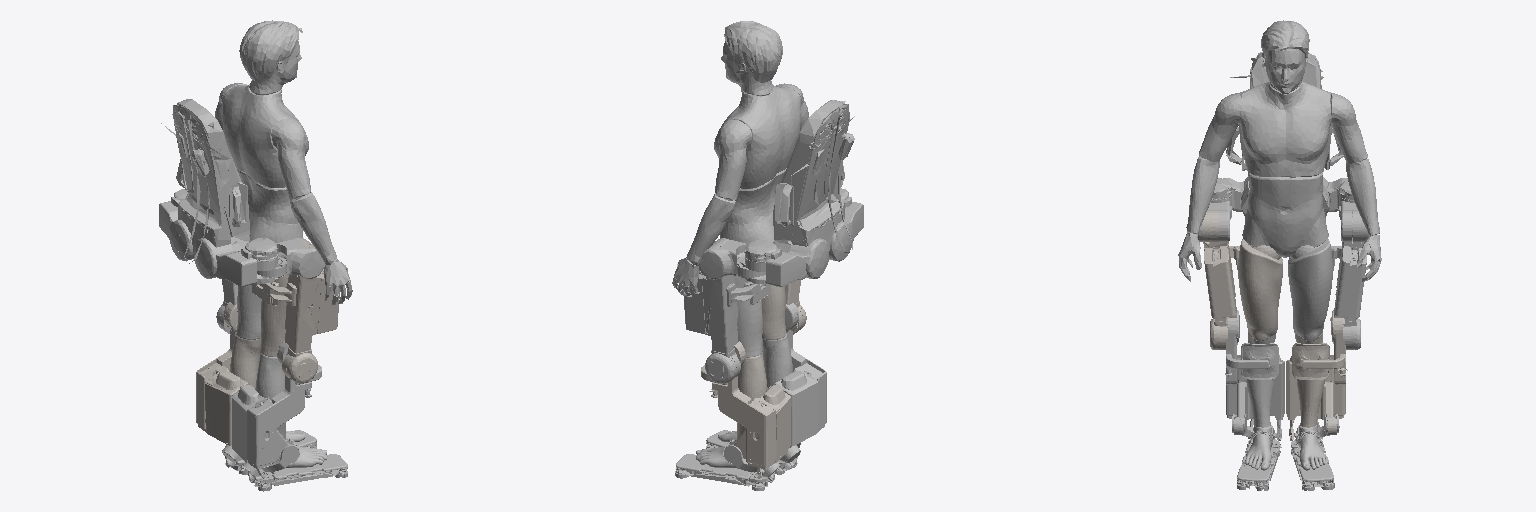
--- What the picture shows (computed from the rendered views, not written in the file) ---
Views: 3 orthographic renders of the robot side by side, from view 1: azimuth 30°, elevation 25°; view 2: azimuth 150°, elevation 25°; view 3: azimuth 270°, elevation 25°.
Model v5-2 with 34 links and 33 joints (14 revolute, 19 fixed), rooted at PelvisLink, posed all joints at 0.
Links seen in each view (by area): view 1: PelvisLink, RightSagittalHipLink, RightSagittalKneeLink, LeftSagittalKneeLink, RightFrontalHipLink, RightHenkeAnkleLink, LeftSagittalHipLink, RightTransverseHipLink, LeftFrontalHipLink, LeftHenkeAnkleLink; view 2: PelvisLink, LeftSagittalHipLink, LeftSagittalKneeLink, RightSagittalKneeLink, LeftFrontalHipLink, LeftHenkeAnkleLink, RightSagittalHipLink, LeftTransverseHipLink, RightFrontalHipLink, RightHenkeAnkleLink; view 3: PelvisLink, RightSagittalHipLink, LeftSagittalHipLink, LeftSagittalKneeLink, RightSagittalKneeLink, RightHenkeAnkleLink, LeftHenkeAnkleLink, RightFrontalHipLink, LeftFrontalHipLink, RightTransverseHipLink.
Link boxes in pixels (x1,y1,x2,y2): PelvisLink: (161,20,352,304); RightSagittalHipLink: (252,241,339,383); RightSagittalKneeLink: (232,340,321,478); LeftSagittalKneeLink: (196,302,260,445); RightFrontalHipLink: (193,238,277,286); RightHenkeAnkleLink: (243,439,347,491); LeftSagittalHipLink: (216,279,261,339); RightTransverseHipLink: (257,238,324,278); LeftFrontalHipLink: (159,189,193,260); LeftHenkeAnkleLink: (222,430,316,474); PelvisLink: (672,21,854,297); LeftSagittalHipLink: (683,242,770,383); LeftSagittalKneeLink: (701,341,790,478); RightSagittalKneeLink: (763,303,826,447); LeftFrontalHipLink: (745,238,829,287); LeftHenkeAnkleLink: (675,439,779,490); RightSagittalHipLink: (761,280,806,339); LeftTransverseHipLink: (698,238,765,279); RightFrontalHipLink: (829,188,863,261); RightHenkeAnkleLink: (706,430,800,474); PelvisLink: (1178,20,1381,281); RightSagittalHipLink: (1203,210,1282,349); LeftSagittalHipLink: (1288,210,1367,349); LeftSagittalKneeLink: (1286,310,1347,440); RightSagittalKneeLink: (1225,310,1284,440); RightHenkeAnkleLink: (1237,425,1281,490); LeftHenkeAnkleLink: (1290,425,1334,490); RightFrontalHipLink: (1211,177,1247,211); LeftFrontalHipLink: (1323,177,1354,211); RightTransverseHipLink: (1198,201,1231,241).
Size in the robot's own frame: 0.626 by 0.7574 by 1.8 metres.
Meshes: 15 distinct files referenced, 15 mesh visuals loaded (15 binary STL).

URDF robot description (v5-2):
<?xml version="1.0"?>
<!-- This file has been generated using freeze_urdf_joints script to adjust some joints.
Option joint_to_freeze_value was:
{
 "AdjustableRightSagittalHipJoint":0.008060078603670775,
 "AdjustableLeftSagittalHipJoint":0.008060078603670775,
 "AdjustableLeftSagittalKneeJoint":0.042,
 "AdjustableRightSagittalKneeJoint":0.042
}
-->
<!--
    Total height of the person is: 1.81 m.
    Total mass of the person is: 78.2 kg.
    Total mass of the system is: 152.624781189 kg.
    Patient offset from exoskeleton is: 0.0 m.
-->
<robot name="v5-2">
  <joint name="RightMetatarsusJoint" type="fixed">
    <origin xyz="0.103820450224 0.0 -0.277176498549" rpy="1.58358451956e-18 0.663225115758 -1.8092540875e-33"/>
    <axis xyz="0.0 0.0 0.0"/>
    <parent link="RightHenkeAnkleLink"/>
    <child link="RightMetatarsus"/>
  </joint>
  <joint name="LeftFrontalHipJoint" type="revolute">
    <origin xyz="0.0 0.089 0.0" rpy="0.0 0.0 0.0"/>
    <axis xyz="1.0 0.0 0.0"/>
    <parent link="PelvisLink"/>
    <child link="LeftFrontalHipLink"/>
    <limit effort="350.0" lower="-0.174532925199" upper="0.296705972839" velocity="2.61799387799"/>
  </joint>
  <joint name="LeftExternalToeJoint" type="fixed">
    <origin xyz="0.0958866654432 0.0357999999769 -0.24686660045" rpy="5.0054690685e-15 0.663225115758 6.86835455008e-15"/>
    <axis xyz="0.0 0.0 0.0"/>
    <parent link="LeftHenkeAnkleLink"/>
    <child link="LeftExternalToe"/>
  </joint>
  <joint name="LeftHenkeAnkleJoint" type="revolute">
    <origin xyz="0.0 0.0 0.0" rpy="-2.978350228e-17 -0.663225115758 0.0"/>
    <axis xyz="1.0 0.0 0.0"/>
    <parent link="LeftSagittalAnkleLink"/>
    <child link="LeftHenkeAnkleLink"/>
    <limit effort="82.0" lower="-0.314159265359" upper="0.314159265359" velocity="5.24"/>
  </joint>
  <joint name="LeftInternalHeelJoint" type="fixed">
    <origin xyz="-0.140988505509 -0.0358010933644 -0.0617994341085" rpy="5.0054690685e-15 0.663225115758 6.86835455008e-15"/>
    <axis xyz="0.0 0.0 0.0"/>
    <parent link="LeftHenkeAnkleLink"/>
    <child link="LeftInternalHeel"/>
  </joint>
  <joint name="LeftTransverseHipJoint" type="revolute">
    <origin xyz="-0.135 0.169 0.0" rpy="0.0 0.0 0.0"/>
    <axis xyz="0.0 0.0 1.0"/>
    <parent link="LeftFrontalHipLink"/>
    <child link="LeftTransverseHipLink"/>
    <limit effort="180.0" lower="-0.174532925199" upper="0.349065850399" velocity="4.18879020479"/>
  </joint>
  <joint name="RightSagittalKneeJoint" type="revolute">
    <origin xyz="2.37357116643e-16 -0.000982276487141 -0.412" rpy="-2.82796112163e-18 -1.83423275819e-28 1.65504327773e-28"/>
    <axis xyz="0.0 1.0 0.0"/>
    <parent link="RightSagittalHipLink"/>
    <child link="RightSagittalKneeLink"/>
    <limit effort="219.0" lower="0.0" upper="1.91986217719" velocity="4.18879020479"/>
  </joint>
  <joint name="LeftToeJoint" type="revolute">
    <origin xyz="0.120631831589 0.0 -0.254503323737" rpy="1.17526109493e-17 0.663225115758 -3.52223310261e-17"/>
    <axis xyz="0.0 1.0 0.0"/>
    <parent link="LeftHenkeAnkleLink"/>
    <child link="LeftToeLink"/>
    <limit effort="1000.0" lower="-1.57079632679" upper="1.57079632679" velocity="1000.0"/>
  </joint>
  <joint name="RightFrontalHipJoint" type="revolute">
    <origin xyz="0.0 -0.089 0.0" rpy="0.0 0.0 0.0"/>
    <axis xyz="1.0 0.0 0.0"/>
    <parent link="PelvisLink"/>
    <child link="RightFrontalHipLink"/>
    <limit effort="350.0" lower="-0.296705972839" upper="0.174532925199" velocity="2.61799387799"/>
  </joint>
  <joint name="PelvisIMUJoint" type="fixed">
    <origin xyz="-0.16444732206 -0.014625 0.194795" rpy="-1.57079632679 -2.96204033523e-16 1.57079632679"/>
    <axis xyz="0.0 0.0 0.0"/>
    <parent link="PelvisLink"/>
    <child link="PelvisIMU"/>
  </joint>
  <joint name="LeftExternalHeelJoint" type="fixed">
    <origin xyz="-0.140988191423 0.0358005266474 -0.0617996794993" rpy="5.0054690685e-15 0.663225115758 6.86835455008e-15"/>
    <axis xyz="0.0 0.0 0.0"/>
    <parent link="LeftHenkeAnkleLink"/>
    <child link="LeftExternalHeel"/>
  </joint>
  <joint name="RightExternalHeelJoint" type="fixed">
    <origin xyz="-0.140988505509 -0.0358010933644 -0.0617994341085" rpy="-1.82430889353e-15 0.663225115758 -1.58500489617e-15"/>
    <axis xyz="0.0 0.0 0.0"/>
    <parent link="RightHenkeAnkleLink"/>
    <child link="RightExternalHeel"/>
  </joint>
  <joint name="RightSagittalAnkleJoint" type="revolute">
    <origin xyz="0.0 0.169418968161 -0.40300012974" rpy="-1.04083408559e-16 -1.46279691175e-17 -0.13962634016"/>
    <axis xyz="0.0 1.0 0.0"/>
    <parent link="RightSagittalKneeLink"/>
    <child link="RightSagittalAnkleLink"/>
    <limit effort="184.0" lower="-0.279252680319" upper="0.157079632679" velocity="3.14"/>
  </joint>
  <joint name="ThoraxIMUJoint" type="fixed">
    <origin xyz="-0.14 0.0 0.5" rpy="0.0 1.57079632679 0.0"/>
    <axis xyz="0.0 0.0 0.0"/>
    <parent link="PelvisLink"/>
    <child link="ThoraxIMU"/>
  </joint>
  <joint name="LeftSagittalAnkleJoint" type="revolute">
    <origin xyz="0.0 -0.169418968161 -0.403" rpy="0.0 -0.0 0.13962634016"/>
    <axis xyz="0.0 1.0 0.0"/>
    <parent link="LeftSagittalKneeLink"/>
    <child link="LeftSagittalAnkleLink"/>
    <limit effort="184.0" lower="-0.279252680319" upper="0.157079632679" velocity="3.14"/>
  </joint>
  <joint name="LeftSagittalKneeJoint" type="revolute">
    <origin xyz="1.18659970394e-16 0.000982276487141 -0.412" rpy="2.82796112163e-18 1.16200934121e-28 -2.05977408211e-28"/>
    <axis xyz="0.0 1.0 0.0"/>
    <parent link="LeftSagittalHipLink"/>
    <child link="LeftSagittalKneeLink"/>
    <limit effort="219.0" lower="0.0" upper="1.91986217719" velocity="4.18879020479"/>
  </joint>
  <joint name="RightTibiaIMUJoint" type="fixed">
    <origin xyz="-0.115680137433 0.0715975226629 -0.347475062462" rpy="-1.57079632679 5.39543769849e-16 2.63677968348e-15"/>
    <axis xyz="0.0 0.0 0.0"/>
    <parent link="RightSagittalKneeLink"/>
    <child link="RightTibiaIMU"/>
  </joint>
  <joint name="LeftSagittalHipJoint" type="revolute">
    <origin xyz="0.135 0.0 0.0" rpy="0.0 0.0 0.0"/>
    <axis xyz="0.0 1.0 0.0"/>
    <parent link="LeftTransverseHipLink"/>
    <child link="LeftSagittalHipLink"/>
    <limit effort="219.0" lower="-2.00712863979" upper="0.261799387799" velocity="4.18879020479"/>
  </joint>
  <joint name="SittingPointJoint" type="fixed">
    <origin xyz="-0.173617 0.0 -0.076" rpy="0.0 0.0 0.0"/>
    <axis xyz="0.0 0.0 0.0"/>
    <parent link="PelvisLink"/>
    <child link="SittingPoint"/>
  </joint>
  <joint name="RightSagittalHipJoint" type="revolute">
    <origin xyz="0.135 0.0 0.0" rpy="0.0 0.0 0.0"/>
    <axis xyz="0.0 1.0 0.0"/>
    <parent link="RightTransverseHipLink"/>
    <child link="RightSagittalHipLink"/>
    <limit effort="219.0" lower="-2.00712863979" upper="0.261799387799" velocity="4.18879020479"/>
  </joint>
  <joint name="LeftHeelJoint" type="fixed">
    <origin xyz="-0.172316470811 0.0 -0.0614346911968" rpy="1.17526109493e-17 0.663225115758 -3.52223310261e-17"/>
    <axis xyz="0.0 0.0 0.0"/>
    <parent link="LeftHenkeAnkleLink"/>
    <child link="LeftHeel"/>
  </joint>
  <joint name="RightToeJoint" type="revolute">
    <origin xyz="0.120631831589 0.0 -0.254503323737" rpy="1.58358451956e-18 0.663225115758 -1.8092540875e-33"/>
    <axis xyz="0.0 1.0 0.0"/>
    <parent link="RightHenkeAnkleLink"/>
    <child link="RightToeLink"/>
    <limit effort="1000.0" lower="-1.57079632679" upper="1.57079632679" velocity="1000.0"/>
  </joint>
  <joint name="RightTransverseHipJoint" type="revolute">
    <origin xyz="-0.135 -0.169 0.0" rpy="0.0 0.0 0.0"/>
    <axis xyz="0.0 0.0 1.0"/>
    <parent link="RightFrontalHipLink"/>
    <child link="RightTransverseHipLink"/>
    <limit effort="180.0" lower="-0.349065850399" upper="0.174532925199" velocity="4.18879020479"/>
  </joint>
  <joint name="LeftTibiaIMUJoint" type="fixed">
    <origin xyz="-0.14092 -0.0714975226618 -0.347475" rpy="-1.57079632679 -1.39625851732e-16 3.14159265359"/>
    <axis xyz="0.0 0.0 0.0"/>
    <parent link="LeftSagittalKneeLink"/>
    <child link="LeftTibiaIMU"/>
  </joint>
  <joint name="LeftSoleJoint" type="fixed">
    <origin xyz="-0.0951195809312 0.0 -0.121747511671" rpy="1.17526109493e-17 0.663225115758 -3.52223310261e-17"/>
    <axis xyz="0.0 0.0 0.0"/>
    <parent link="LeftHenkeAnkleLink"/>
    <child link="LeftSole"/>
  </joint>
  <joint name="RightHeelJoint" type="fixed">
    <origin xyz="-0.172316470811 0.0 -0.0614346911968" rpy="1.58358451956e-18 0.663225115758 -1.8092540875e-33"/>
    <axis xyz="0.0 0.0 0.0"/>
    <parent link="RightHenkeAnkleLink"/>
    <child link="RightHeel"/>
  </joint>
  <joint name="LeftMetatarsusJoint" type="fixed">
    <origin xyz="0.103820450224 0.0 -0.277176498549" rpy="1.17526109493e-17 0.663225115758 -3.52223310261e-17"/>
    <axis xyz="0.0 0.0 0.0"/>
    <parent link="LeftHenkeAnkleLink"/>
    <child link="LeftMetatarsus"/>
  </joint>
  <joint name="RightHenkeAnkleJoint" type="revolute">
    <origin xyz="0.0 0.0 0.0" rpy="0.0 -0.663225115758 6.73695650048e-18"/>
    <axis xyz="1.0 0.0 0.0"/>
    <parent link="RightSagittalAnkleLink"/>
    <child link="RightHenkeAnkleLink"/>
    <limit effort="82.0" lower="-0.314159265359" upper="0.314159265359" velocity="5.24"/>
  </joint>
  <joint name="RightSoleJoint" type="fixed">
    <origin xyz="-0.0951195809312 0.0 -0.121747511671" rpy="1.58358451956e-18 0.663225115758 -1.8092540875e-33"/>
    <axis xyz="0.0 0.0 0.0"/>
    <parent link="RightHenkeAnkleLink"/>
    <child link="RightSole"/>
  </joint>
  <joint name="RightInternalToeJoint" type="fixed">
    <origin xyz="0.0958866654432 0.0357999999769 -0.24686660045" rpy="-1.82430889353e-15 0.663225115758 -1.58500489617e-15"/>
    <axis xyz="0.0 0.0 0.0"/>
    <parent link="RightHenkeAnkleLink"/>
    <child link="RightInternalToe"/>
  </joint>
  <joint name="LeftInternalToeJoint" type="fixed">
    <origin xyz="0.0958882624132 -0.0357996134412 -0.246867848139" rpy="5.0054690685e-15 0.663225115758 6.86835455008e-15"/>
    <axis xyz="0.0 0.0 0.0"/>
    <parent link="LeftHenkeAnkleLink"/>
    <child link="LeftInternalToe"/>
  </joint>
  <joint name="RightInternalHeelJoint" type="fixed">
    <origin xyz="-0.140988191423 0.0358005266475 -0.0617996794993" rpy="-1.82430889353e-15 0.663225115758 -1.58500489617e-15"/>
    <axis xyz="0.0 0.0 0.0"/>
    <parent link="RightHenkeAnkleLink"/>
    <child link="RightInternalHeel"/>
  </joint>
  <joint name="RightExternalToeJoint" type="fixed">
    <origin xyz="0.0958882624132 -0.0357996134412 -0.246867848139" rpy="-1.82430889353e-15 0.663225115758 -1.58500489617e-15"/>
    <axis xyz="0.0 0.0 0.0"/>
    <parent link="RightHenkeAnkleLink"/>
    <child link="RightExternalToe"/>
  </joint>
  <link name="RightInternalToe"/>
  <link name="LeftInternalToe"/>
  <link name="LeftFrontalHipLink">
    <inertial>
      <origin xyz="-0.18659896551 0.0906388739961 0.0185668674535" rpy="0.0 0.0 0.0"/>
      <mass value="4.58624498098"/>
      <inertia ixx="0.0387726804479" ixy="-0.0128790100034" ixz="-0.00381275432458" iyy="0.0158692999985" iyz="-0.00691913537636" izz="0.0441326445733"/>
    </inertial>
    <visual>
      <origin xyz="0.0 0.0 0.0" rpy="0.0 0.0 0.0"/>
      <geometry>
        <mesh filename="LeftFrontalHipLink.STL"/>
      </geometry>
      <material name="">
        <color rgba="0.752941176471 0.752941176471 0.752941176471 1.0"/>
      </material>
    </visual>
    <collision>
      <origin xyz="0.0 0.0 0.0" rpy="0.0 0.0 0.0"/>
      <geometry>
        <mesh filename="LeftFrontalHipLink.STL"/>
      </geometry>
    </collision>
  </link>
  <link name="RightExternalToe"/>
  <link name="LeftTibiaIMU"/>
  <link name="RightSagittalHipLink">
    <inertial>
      <origin xyz="0.0133628613487 0.0486053407972 -0.196509065345" rpy="0.0 0.0 0.0"/>
      <mass value="16.4261500865"/>
      <inertia ixx="0.3623326822094377" ixy="0.011271460404066399" ixz="0.0023429164983012796" iyy="0.3597750004103663" iyz="0.007338227990256802" izz="0.06472059818259761"/>
    </inertial>
    <visual>
      <origin xyz="0.0 0.0 0.0" rpy="0.0 0.0 0.0"/>
      <geometry>
        <mesh filename="RightSagittalHipLink.STL"/>
      </geometry>
      <material name="">
        <color rgba="0.776470588235 0.756862745098 0.737254901961 1.0"/>
      </material>
    </visual>
    <collision>
      <origin xyz="0.0 0.0 0.0" rpy="0.0 0.0 0.0"/>
      <geometry>
        <mesh filename="RightSagittalHipLink.STL"/>
      </geometry>
    </collision>
  </link>
  <link name="LeftSagittalHipLink">
    <inertial>
      <origin xyz="0.0133723269544 -0.0486063967745 -0.196486647207" rpy="0.0 0.0 0.0"/>
      <mass value="16.4265777815"/>
      <inertia ixx="0.3623887121880667" ixy="-0.01116885845631036" ixz="0.0023720179049505482" iyy="0.3598924293574708" iyz="-0.007386940681234713" izz="0.06463217215934035"/>
    </inertial>
    <visual>
      <origin xyz="0.0 0.0 0.0" rpy="0.0 0.0 0.0"/>
      <geometry>
        <mesh filename="LeftSagittalHipLink.STL"/>
      </geometry>
      <material name="">
        <color rgba="0.752941176471 0.752941176471 0.752941176471 1.0"/>
      </material>
    </visual>
    <collision>
      <origin xyz="0.0 0.0 0.0" rpy="0.0 0.0 0.0"/>
      <geometry>
        <mesh filename="LeftSagittalHipLink.STL"/>
      </geometry>
    </collision>
  </link>
  <link name="RightSagittalKneeLink">
    <inertial>
      <origin xyz="-0.0470032287302 0.101995405328 -0.216581670535" rpy="0.0 0.0 0.0"/>
      <mass value="13.2528800245"/>
      <inertia ixx="0.2861207269552005" ixy="0.023689838460346255" ixz="-0.06791805075871127" iyy="0.3121829983170504" iyz="0.03851321905474734" izz="0.10739899119471814"/>
    </inertial>
    <visual>
      <origin xyz="0.0 0.0 0.0" rpy="0.0 0.0 0.0"/>
      <geometry>
        <mesh filename="RightSagittalKneeLink.STL"/>
      </geometry>
      <material name="">
        <color rgba="0.752941176471 0.752941176471 0.752941176471 1.0"/>
      </material>
    </visual>
    <collision>
      <origin xyz="0.0 0.0 0.0" rpy="0.0 0.0 0.0"/>
      <geometry>
        <mesh filename="RightSagittalKneeLink.STL"/>
      </geometry>
    </collision>
  </link>
  <link name="RightHenkeAnkleLink">
    <inertial>
      <origin xyz="-0.00691028034307 -0.0219149613839 -0.128921643283" rpy="0.0 0.0 0.0"/>
      <mass value="3.28900864776"/>
      <inertia ixx="0.040220634198779845" ixy="0.005612362390828701" ixz="0.018490370318981705" iyy="0.06355149949455711" iyz="-0.0014628272201815454" izz="0.03461769595371244"/>
    </inertial>
    <visual>
      <origin xyz="0.0 0.0 0.0" rpy="0.0 0.0 0.0"/>
      <geometry>
        <mesh filename="RightHenkeAnkleLink.STL"/>
      </geometry>
      <material name="">
        <color rgba="0.752941176471 0.752941176471 0.752941176471 1.0"/>
      </material>
    </visual>
    <collision>
      <origin xyz="0.0 0.0 0.0" rpy="0.0 0.0 0.0"/>
      <geometry>
        <mesh filename="RightHenkeAnkleLink.STL"/>
      </geometry>
    </collision>
  </link>
  <link name="LeftHeel"/>
  <link name="LeftMetatarsus"/>
  <link name="LeftInternalHeel"/>
  <link name="PelvisIMU"/>
  <link name="LeftTransverseHipLink">
    <inertial>
      <origin xyz="0.0693483479128 -0.0122439400604 -2.62328666277e-05" rpy="0.0 0.0 0.0"/>
      <mass value="3.6238166807"/>
      <inertia ixx="0.00496088298888" ixy="0.0026101386171" ixz="-0.000153502228957" iyy="0.0207247274055" iyz="2.24387592161e-05" izz="0.0214591079057"/>
    </inertial>
    <visual>
      <origin xyz="0.0 0.0 0.0" rpy="0.0 0.0 0.0"/>
      <geometry>
        <mesh filename="LeftTransverseHipLink.STL"/>
      </geometry>
      <material name="">
        <color rgba="0.752941176471 0.752941176471 0.752941176471 1.0"/>
      </material>
    </visual>
    <collision>
      <origin xyz="0.0 0.0 0.0" rpy="0.0 0.0 0.0"/>
      <geometry>
        <mesh filename="LeftTransverseHipLink.STL"/>
      </geometry>
    </collision>
  </link>
  <link name="RightSole"/>
  <link name="LeftExternalHeel"/>
  <link name="LeftExternalToe"/>
  <link name="LeftToeLink">
    <inertial>
      <origin xyz="-0.02 -1.38777878078e-17 -0.011478077725" rpy="0.0 0.0 0.0"/>
      <mass value="0.00114328757461"/>
      <inertia ixx="2.48859416752e-08" ixy="-8.27180612553e-25" ixz="-1.14955427648e-22" iyy="2.48859416752e-08" iyz="1.18494814448e-22" izz="2.75895161296e-09"/>
    </inertial>
    <visual>
      <origin xyz="0.0 0.0 0.0" rpy="0.0 0.0 0.0"/>
      <geometry>
        <mesh filename="LeftToeLink.STL"/>
      </geometry>
      <material name="">
        <color rgba="0.776470588235 0.756862745098 0.737254901961 1.0"/>
      </material>
    </visual>
    <collision>
      <origin xyz="0.0 0.0 0.0" rpy="0.0 0.0 0.0"/>
      <geometry>
        <mesh filename="LeftToeLink.STL"/>
      </geometry>
    </collision>
  </link>
  <link name="SittingPoint"/>
  <link name="RightTibiaIMU"/>
  <link name="LeftSagittalAnkleLink">
    <inertial>
      <origin xyz="-0.0449170771783 0.0536419434585 -0.0397198303664" rpy="0.0 0.0 0.0"/>
      <mass value="1.67925414462"/>
      <inertia ixx="0.00462371044676" ixy="-0.00217464900438" ixz="-0.00171350754123" iyy="0.00424175269932" iyz="-0.00157887983149" izz="0.00539595922129"/>
    </inertial>
    <visual>
      <origin xyz="0.0 0.0 0.0" rpy="0.0 0.0 0.0"/>
      <geometry>
        <mesh filename="LeftSagittalAnkleLink.STL"/>
      </geometry>
      <material name="">
        <color rgba="0.752941176471 0.752941176471 0.752941176471 1.0"/>
      </material>
    </visual>
    <collision>
      <origin xyz="0.0 0.0 0.0" rpy="0.0 0.0 0.0"/>
      <geometry>
        <mesh filename="LeftSagittalAnkleLink.STL"/>
      </geometry>
    </collision>
  </link>
  <link name="LeftSagittalKneeLink">
    <inertial>
      <origin xyz="-0.0469026288121 -0.102237884137 -0.216661306438" rpy="0.0 0.0 0.0"/>
      <mass value="13.253801315"/>
      <inertia ixx="0.2861645571416313" ixy="-0.023688151739532447" ixz="-0.0670527218566108" iyy="0.3114289248514416" iyz="-0.03889925707303318" izz="0.10722878035458282"/>
    </inertial>
    <visual>
      <origin xyz="0.0 0.0 0.0" rpy="0.0 0.0 0.0"/>
      <geometry>
        <mesh filename="LeftSagittalKneeLink.STL"/>
      </geometry>
      <material name="">
        <color rgba="0.776470588235 0.756862745098 0.737254901961 1.0"/>
      </material>
    </visual>
    <collision>
      <origin xyz="0.0 0.0 0.0" rpy="0.0 0.0 0.0"/>
      <geometry>
        <mesh filename="LeftSagittalKneeLink.STL"/>
      </geometry>
    </collision>
  </link>
  <link name="ThoraxIMU"/>
  <link name="RightTransverseHipLink">
    <inertial>
      <origin xyz="0.0693460626877 0.0122440516362 -2.60687545504e-05" rpy="0.0 0.0 0.0"/>
      <mass value="3.62380778529"/>
      <inertia ixx="0.00495472910934" ixy="-0.00261016946883" ixz="-0.00017044714059" iyy="0.0207236490658" iyz="-2.24971426872e-05" izz="0.0214642012568"/>
    </inertial>
    <visual>
      <origin xyz="0.0 0.0 0.0" rpy="0.0 0.0 0.0"/>
      <geometry>
        <mesh filename="RightTransverseHipLink.STL"/>
      </geometry>
      <material name="">
        <color rgba="0.752941176471 0.752941176471 0.752941176471 1.0"/>
      </material>
    </visual>
    <collision>
      <origin xyz="0.0 0.0 0.0" rpy="0.0 0.0 0.0"/>
      <geometry>
        <mesh filename="RightTransverseHipLink.STL"/>
      </geometry>
    </collision>
  </link>
  <link name="RightSagittalAnkleLink">
    <inertial>
      <origin xyz="-0.0449171467267 -0.0536419999351 -0.0397197928819" rpy="0.0 0.0 0.0"/>
      <mass value="1.67925622757"/>
      <inertia ixx="0.00462369586191" ixy="0.00217464938756" ixz="-0.00171350659237" iyy="0.00424176214999" iyz="0.0015788772309" izz="0.00539595229202"/>
    </inertial>
    <visual>
      <origin xyz="0.0 0.0 0.0" rpy="0.0 0.0 0.0"/>
      <geometry>
        <mesh filename="RightSagittalAnkleLink.STL"/>
      </geometry>
      <material name="">
        <color rgba="0.752941176471 0.752941176471 0.752941176471 1.0"/>
      </material>
    </visual>
    <collision>
      <origin xyz="0.0 0.0 0.0" rpy="0.0 0.0 0.0"/>
      <geometry>
        <mesh filename="RightSagittalAnkleLink.STL"/>
      </geometry>
    </collision>
  </link>
  <link name="LeftHenkeAnkleLink">
    <inertial>
      <origin xyz="-0.00691030736471 0.0217560704097 -0.128921678851" rpy="0.0 0.0 0.0"/>
      <mass value="3.28900863403"/>
      <inertia ixx="0.04024346097817705" ixy="-0.0055923203176476075" ixz="0.01849037742075425" iyy="0.06355148978672626" iyz="0.0014336291239683437" izz="0.03464050385763902"/>
    </inertial>
    <visual>
      <origin xyz="0.0 0.0 0.0" rpy="0.0 0.0 0.0"/>
      <geometry>
        <mesh filename="LeftHenkeAnkleLink.STL"/>
      </geometry>
      <material name="">
        <color rgba="0.752941176471 0.752941176471 0.752941176471 1.0"/>
      </material>
    </visual>
    <collision>
      <origin xyz="0.0 0.0 0.0" rpy="0.0 0.0 0.0"/>
      <geometry>
        <mesh filename="LeftHenkeAnkleLink.STL"/>
      </geometry>
    </collision>
  </link>
  <link name="PelvisLink">
    <inertial>
      <origin xyz="-0.0383831669308 0.000143794631608 0.281434541418" rpy="0.0 0.0 0.0"/>
      <mass value="66.9060645102"/>
      <inertia ixx="4.688284327589564" ixy="0.0012838937394358953" ixz="-0.32705663863559525" iyy="4.52514496038097" iyz="-0.0010462682916273142" izz="0.9497085883730917"/>
    </inertial>
    <visual>
      <origin xyz="0.0 0.0 0.0" rpy="0.0 0.0 0.0"/>
      <geometry>
        <mesh filename="PelvisLink.STL"/>
      </geometry>
      <material name="">
        <color rgba="0.752941176471 0.752941176471 0.752941176471 1.0"/>
      </material>
    </visual>
    <collision>
      <origin xyz="0.0 0.0 0.0" rpy="0.0 0.0 0.0"/>
      <geometry>
        <mesh filename="PelvisLink.STL"/>
      </geometry>
    </collision>
  </link>
  <link name="RightInternalHeel"/>
  <link name="LeftSole"/>
  <link name="RightHeel"/>
  <link name="RightFrontalHipLink">
    <inertial>
      <origin xyz="-0.186589819565 -0.090593998923 0.0187746971847" rpy="0.0 0.0 0.0"/>
      <mass value="4.58662379492"/>
      <inertia ixx="0.0388268025834" ixy="0.0128810527533" ixz="-0.00386383337106" iyy="0.0159441970363" iyz="0.00698300263973" izz="0.0441183390211"/>
    </inertial>
    <visual>
      <origin xyz="0.0 0.0 0.0" rpy="0.0 0.0 0.0"/>
      <geometry>
        <mesh filename="RightFrontalHipLink.STL"/>
      </geometry>
      <material name="">
        <color rgba="0.752941176471 0.752941176471 0.752941176471 1.0"/>
      </material>
    </visual>
    <collision>
      <origin xyz="0.0 0.0 0.0" rpy="0.0 0.0 0.0"/>
      <geometry>
        <mesh filename="RightFrontalHipLink.STL"/>
      </geometry>
    </collision>
  </link>
  <link name="RightMetatarsus"/>
  <link name="RightToeLink">
    <inertial>
      <origin xyz="-0.02 9.71445146547e-17 -0.011478077725" rpy="0.0 0.0 0.0"/>
      <mass value="0.00114328757461"/>
      <inertia ixx="2.48859416752e-08" ixy="8.47182452057e-39" ixz="-1.61580903549e-22" iyy="2.48859416752e-08" iyz="1.60397227811e-23" izz="2.75895161296e-09"/>
    </inertial>
    <visual>
      <origin xyz="0.0 0.0 0.0" rpy="0.0 0.0 0.0"/>
      <geometry>
        <mesh filename="RightToeLink.STL"/>
      </geometry>
      <material name="">
        <color rgba="0.776470588235 0.756862745098 0.737254901961 1.0"/>
      </material>
    </visual>
    <collision>
      <origin xyz="0.0 0.0 0.0" rpy="0.0 0.0 0.0"/>
      <geometry>
        <mesh filename="RightToeLink.STL"/>
      </geometry>
    </collision>
  </link>
  <link name="RightExternalHeel"/>
  <gazebo><plugin filename="libwdc_simulation.so" name="wanderbrainPlugin"/>
  </gazebo>
  <gazebo reference="PelvisLink"><material>Gazebo/Orange</material>
    <sensor name="PelvisIMU" type="imu">
      <visualize>true</visualize>
      <always_on>true</always_on>
      <update_rate>1000</update_rate>
    </sensor>
    <sensor name="ThoraxIMU" type="imu">
      <visualize>true</visualize>
      <always_on>true</always_on>
      <update_rate>1000</update_rate>
    </sensor>
  </gazebo>
  <gazebo reference="RightFrontalHipLink"><material>Gazebo/Green</material>
  </gazebo>
  <gazebo reference="RightTransverseHipLink"><material>Gazebo/Blue</material>
  </gazebo>
  <gazebo reference="RightSagittalHipLink"><material>Gazebo/Yellow</material>
  </gazebo>
  <gazebo reference="RightSagittalKneeLink"><material>Gazebo/Red</material>
    <sensor name="RightTibiaIMU" type="imu">
      <visualize>true</visualize>
      <always_on>true</always_on>
      <update_rate>1000</update_rate>
    </sensor>
  </gazebo>
  <gazebo reference="RightSagittalAnkleLink"><material>Gazebo/Turquoise</material>
  </gazebo>
  <gazebo reference="RightHenkeAnkleLink"><material>Gazebo/Purple</material>
    <kp>1000000.0</kp>
    <kd>2000.0</kd>
    <mu1>1.0</mu1>
    <mu2>1.0</mu2>
    <fdir1>1 0 0</fdir1>
    <maxVel>1.0</maxVel>
    <minDepth>0.00</minDepth>
    <sensor name="RightFootContact" type="contact">
      <visualize>true</visualize>
      <always_on>true</always_on>
      <update_rate>1000</update_rate>
      <contact>
        <collision>RightHenkeAnkleLink_collision</collision>
      </contact>
    </sensor>
  </gazebo>
  <gazebo reference="RightToeLink"><material>Gazebo/Gold</material>
  </gazebo>
  <gazebo reference="LeftFrontalHipLink"><material>Gazebo/Green</material>
  </gazebo>
  <gazebo reference="LeftTransverseHipLink"><material>Gazebo/Blue</material>
  </gazebo>
  <gazebo reference="LeftSagittalHipLink"><material>Gazebo/Yellow</material>
  </gazebo>
  <gazebo reference="LeftSagittalKneeLink"><material>Gazebo/Red</material>
    <sensor name="LeftTibiaIMU" type="imu">
      <visualize>true</visualize>
      <always_on>true</always_on>
      <update_rate>1000</update_rate>
    </sensor>
  </gazebo>
  <gazebo reference="LeftSagittalAnkleLink"><material>Gazebo/Turquoise</material>
  </gazebo>
  <gazebo reference="LeftHenkeAnkleLink"><material>Gazebo/Purple</material>
    <kp>1000000.0</kp>
    <kd>2000.0</kd>
    <mu1>1.0</mu1>
    <mu2>1.0</mu2>
    <fdir1>1 0 0</fdir1>
    <maxVel>1.0</maxVel>
    <minDepth>0.00</minDepth>
    <sensor name="LeftFootContact" type="contact">
      <visualize>true</visualize>
      <always_on>true</always_on>
      <update_rate>1000</update_rate>
      <contact>
        <collision>LeftHenkeAnkleLink_collision</collision>
      </contact>
    </sensor>
  </gazebo>
  <gazebo reference="LeftToeLink"><material>Gazebo/Gold</material>
  </gazebo>
  <transmission name="RightFrontalHipTransmission">
    <type>transmission_interface/SimpleTransmission</type>
    <joint name="RightFrontalHipJoint"/>
    <actuator name="RightFrontalHipMotor">
      <hardwareInterface>EffortJointInterface</hardwareInterface>
      <mechanicalReduction>1.0</mechanicalReduction>
    </actuator>
  </transmission>
  <transmission name="RightTransverseHipTransmission">
    <type>transmission_interface/SimpleTransmission</type>
    <joint name="RightTransverseHipJoint"/>
    <actuator name="RightTransverseHipMotor">
      <hardwareInterface>EffortJointInterface</hardwareInterface>
      <mechanicalReduction>1.0</mechanicalReduction>
    </actuator>
  </transmission>
  <transmission name="RightSagittalHipTransmission">
    <type>transmission_interface/SimpleTransmission</type>
    <joint name="RightSagittalHipJoint"/>
    <actuator name="RightSagittalHipMotor">
      <hardwareInterface>EffortJointInterface</hardwareInterface>
      <mechanicalReduction>1.0</mechanicalReduction>
    </actuator>
  </transmission>
  <transmission name="RightSagittalKneeTransmission">
    <type>transmission_interface/SimpleTransmission</type>
    <joint name="RightSagittalKneeJoint"/>
    <actuator name="RightSagittalKneeMotor">
      <hardwareInterface>EffortJointInterface</hardwareInterface>
      <mechanicalReduction>1.0</mechanicalReduction>
    </actuator>
  </transmission>
  <transmission name="RightSagittalAnkleTransmission">
    <type>transmission_interface/SimpleTransmission</type>
    <joint name="RightSagittalAnkleJoint"/>
    <actuator name="RightSagittalAnkleMotor">
      <hardwareInterface>EffortJointInterface</hardwareInterface>
      <mechanicalReduction>1.0</mechanicalReduction>
    </actuator>
  </transmission>
  <transmission name="RightHenkeAnkleTransmission">
    <type>transmission_interface/SimpleTransmission</type>
    <joint name="RightHenkeAnkleJoint"/>
    <actuator name="RightHenkeAnkleMotor">
      <hardwareInterface>EffortJointInterface</hardwareInterface>
      <mechanicalReduction>1.0</mechanicalReduction>
    </actuator>
  </transmission>
  <transmission name="LeftFrontalHipTransmission">
    <type>transmission_interface/SimpleTransmission</type>
    <joint name="LeftFrontalHipJoint"/>
    <actuator name="LeftFrontalHipMotor">
      <hardwareInterface>EffortJointInterface</hardwareInterface>
      <mechanicalReduction>1.0</mechanicalReduction>
    </actuator>
  </transmission>
  <transmission name="LeftTransverseHipTransmission">
    <type>transmission_interface/SimpleTransmission</type>
    <joint name="LeftTransverseHipJoint"/>
    <actuator name="LeftTransverseHipMotor">
      <hardwareInterface>EffortJointInterface</hardwareInterface>
      <mechanicalReduction>1.0</mechanicalReduction>
    </actuator>
  </transmission>
  <transmission name="LeftSagittalHipTransmission">
    <type>transmission_interface/SimpleTransmission</type>
    <joint name="LeftSagittalHipJoint"/>
    <actuator name="LeftSagittalHipMotor">
      <hardwareInterface>EffortJointInterface</hardwareInterface>
      <mechanicalReduction>1.0</mechanicalReduction>
    </actuator>
  </transmission>
  <transmission name="LeftSagittalKneeTransmission">
    <type>transmission_interface/SimpleTransmission</type>
    <joint name="LeftSagittalKneeJoint"/>
    <actuator name="LeftSagittalKneeMotor">
      <hardwareInterface>EffortJointInterface</hardwareInterface>
      <mechanicalReduction>1.0</mechanicalReduction>
    </actuator>
  </transmission>
  <transmission name="LeftSagittalAnkleTransmission">
    <type>transmission_interface/SimpleTransmission</type>
    <joint name="LeftSagittalAnkleJoint"/>
    <actuator name="LeftSagittalAnkleMotor">
      <hardwareInterface>EffortJointInterface</hardwareInterface>
      <mechanicalReduction>1.0</mechanicalReduction>
    </actuator>
  </transmission>
  <transmission name="LeftHenkeAnkleTransmission">
    <type>transmission_interface/SimpleTransmission</type>
    <joint name="LeftHenkeAnkleJoint"/>
    <actuator name="LeftHenkeAnkleMotor">
      <hardwareInterface>EffortJointInterface</hardwareInterface>
      <mechanicalReduction>1.0</mechanicalReduction>
    </actuator>
  </transmission>
</robot>
